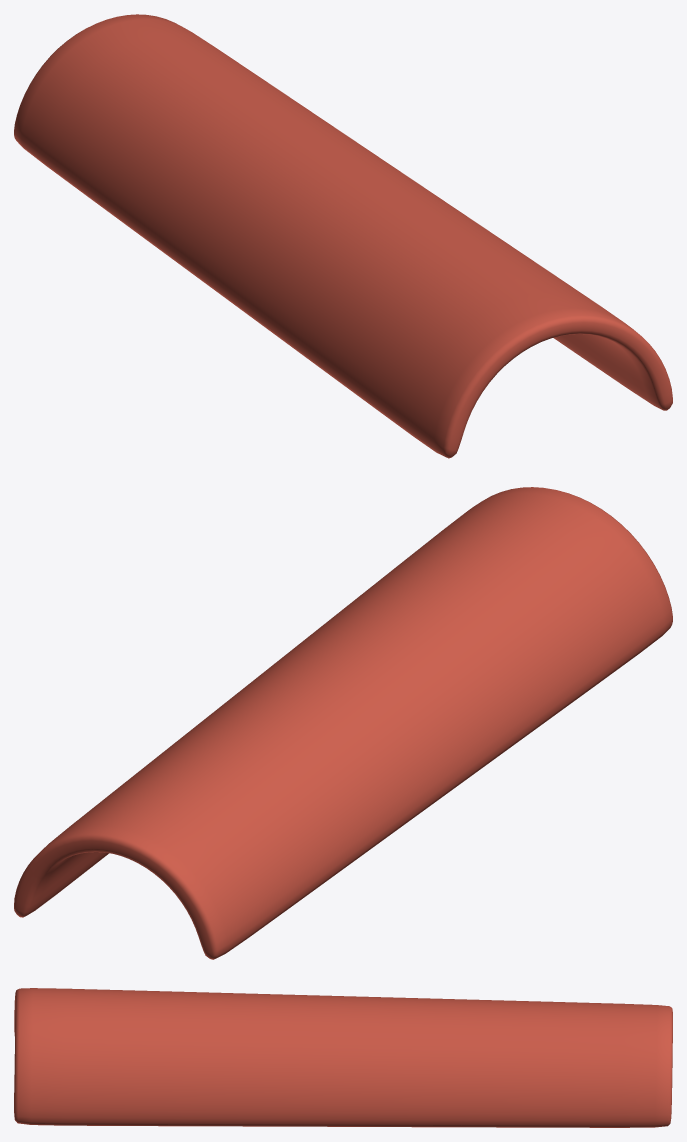
File: hairCollider 1.fbx
3 renders of one model, top to bottom at view 1: azimuth 30°, elevation 25°; view 2: azimuth 150°, elevation 25°; view 3: azimuth 270°, elevation 25°, orthographic. The views are drawn at different scales.
Visible parts, largest first — view 1: Roof; view 2: Roof; view 3: Roof.
Boxes of the visible parts, x1,y1,x2,y2 form: Roof: (14, 14, 672, 458); Roof: (14, 487, 672, 959); Roof: (14, 988, 672, 1127).
Bounding box in the file's own units: 13.74 × 7.4 × 46.35.
